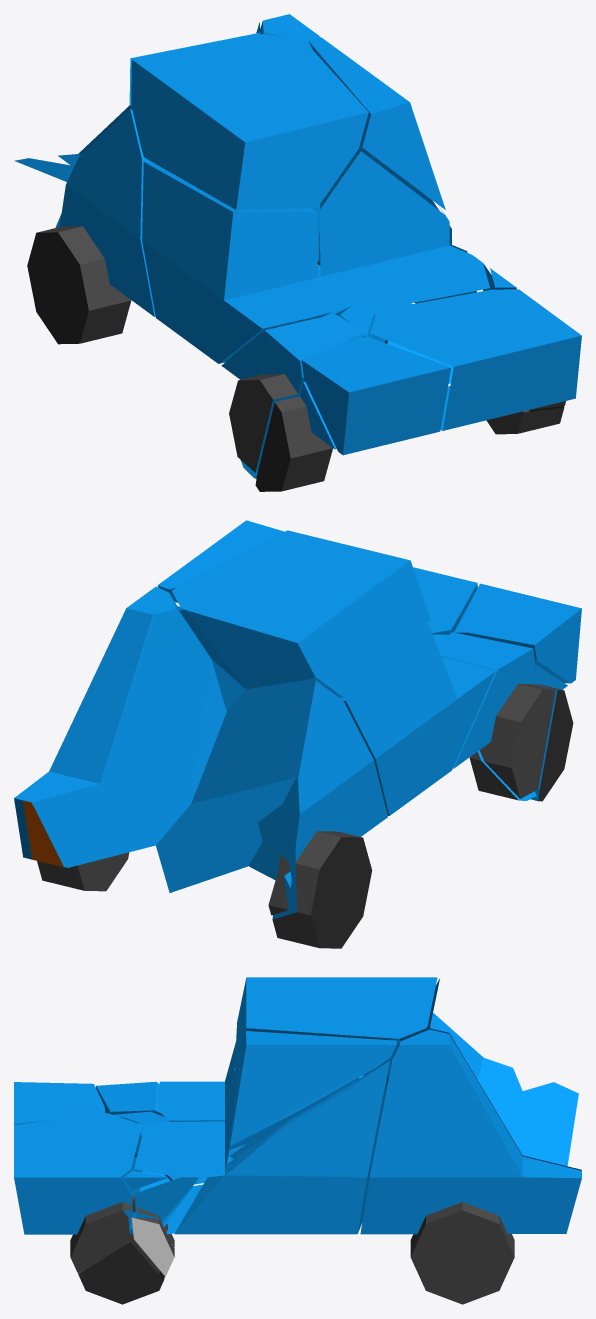
Rendered from Car Cracked.fbx.
The picture shows the model from 3 angles, top to bottom: view 1: azimuth 30°, elevation 25°; view 2: azimuth 150°, elevation 25°; view 3: azimuth 270°, elevation 25°; orthographic projection. The views are drawn at different scales.
Visible parts, largest first — view 1: Car_01.001_cell.015, Car_01.001_cell.007, Car_01.001_cell, Car_01.001_cell.009, Car_01.001_cell.002, Car_01.001_cell.004, Car_01.001_cell.012, Car_01.001_cell.014, Car_01.001_cell.003, Car_01.001_cell.001, Car_01.001_cell.011, Car_01.001_cell.013 (+3 smaller); view 2: Car_01.001_cell.011, Car_01.001_cell.015, Car_01.001_cell, Car_01.001_cell.007, Car_01.001_cell.013, Car_01.001_cell.012, Car_01.001_cell.004, Car_01.001_cell.009, Car_01.001_cell.014, Car_01.001_cell.003, Car_01.001_cell.019, Car_01.001_cell.008 (+1 smaller); view 3: Car_01.001_cell.013, Car_01.001_cell.016, Car_01.001_cell.009, Car_01.001_cell.015, Car_01.001_cell.014, Car_01.001_cell.019, Car_01.001_cell.002, Car_01.001_cell.011, Car_01.001_cell.001, Car_01.001_cell.007, Car_01.001_cell.004, Car_01.001_cell.018 (+4 smaller).
Part boxes in pixels (x1=…): Car_01.001_cell.015: x1=131, y1=34, x2=368, y2=210; Car_01.001_cell.007: x1=142, y1=161, x2=352, y2=363; Car_01.001_cell: x1=27, y1=109, x2=155, y2=344; Car_01.001_cell.009: x1=370, y1=289, x2=581, y2=430; Car_01.001_cell.002: x1=317, y1=151, x2=497, y2=341; Car_01.001_cell.004: x1=301, y1=337, x2=451, y2=455; Car_01.001_cell.012: x1=221, y1=314, x2=364, y2=472; Car_01.001_cell.014: x1=308, y1=37, x2=445, y2=209; Car_01.001_cell.003: x1=255, y1=396, x2=332, y2=491; Car_01.001_cell.001: x1=384, y1=340, x2=564, y2=434; Car_01.001_cell.011: x1=14, y1=22, x2=260, y2=181; Car_01.001_cell.013: x1=260, y1=14, x2=320, y2=261; Car_01.001_cell.011: x1=34, y1=610, x2=313, y2=892; Car_01.001_cell.015: x1=171, y1=530, x2=430, y2=697; Car_01.001_cell: x1=248, y1=680, x2=387, y2=948; Car_01.001_cell.007: x1=339, y1=624, x2=495, y2=815; Car_01.001_cell.013: x1=14, y1=586, x2=179, y2=867; Car_01.001_cell.012: x1=437, y1=632, x2=555, y2=798; Car_01.001_cell.004: x1=454, y1=583, x2=581, y2=683; Car_01.001_cell.009: x1=413, y1=567, x2=477, y2=634; Car_01.001_cell.014: x1=157, y1=520, x2=284, y2=602; Car_01.001_cell.003: x1=531, y1=684, x2=573, y2=801; Car_01.001_cell.019: x1=37, y1=852, x2=129, y2=891; Car_01.001_cell.008: x1=469, y1=750, x2=536, y2=800; Car_01.001_cell.013: x1=360, y1=1029, x2=581, y2=1234; Car_01.001_cell.016: x1=174, y1=1061, x2=389, y2=1234; Car_01.001_cell.009: x1=14, y1=1113, x2=142, y2=1234; Car_01.001_cell.015: x1=234, y1=977, x2=437, y2=1076; Car_01.001_cell.014: x1=230, y1=1031, x2=397, y2=1145; Car_01.001_cell.019: x1=410, y1=1202, x2=514, y2=1304; Car_01.001_cell.002: x1=134, y1=1053, x2=245, y2=1246; Car_01.001_cell.011: x1=425, y1=978, x2=581, y2=1170; Car_01.001_cell.001: x1=78, y1=1156, x2=170, y2=1304; Car_01.001_cell.007: x1=158, y1=1042, x2=363, y2=1158; Car_01.001_cell.004: x1=14, y1=1082, x2=105, y2=1124; Car_01.001_cell.018: x1=70, y1=1196, x2=135, y2=1272.
Size of the model in its own units: 19.22 by 18.56 by 40.31.
